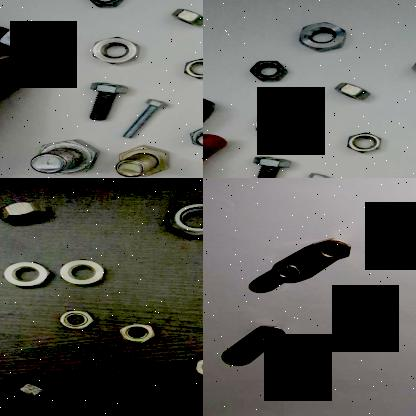Bolts: (24, 140, 98, 178), (74, 78, 126, 127), (107, 142, 177, 178), (120, 96, 174, 142), (231, 154, 292, 178), (183, 119, 203, 151)
NUTS: (84, 32, 148, 70), (0, 17, 56, 59), (239, 110, 308, 141), (290, 20, 348, 56), (51, 258, 107, 288), (0, 194, 49, 226), (163, 200, 203, 239), (327, 78, 379, 107), (0, 259, 50, 288), (240, 58, 293, 85), (9, 375, 60, 401), (338, 132, 386, 158), (58, 304, 98, 334), (310, 236, 352, 263), (242, 326, 292, 346), (170, 53, 203, 83), (116, 321, 157, 345), (166, 5, 203, 31), (270, 264, 302, 280), (185, 354, 203, 382), (76, 0, 130, 9), (403, 54, 416, 81)
